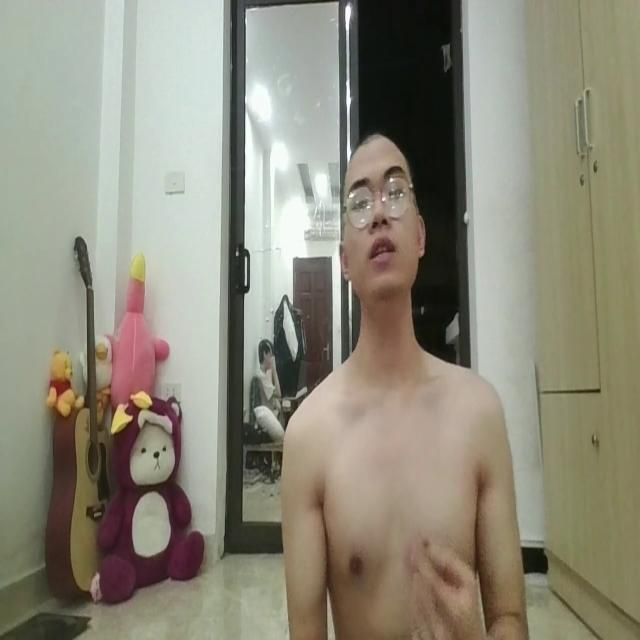student: (274, 126, 533, 640)
